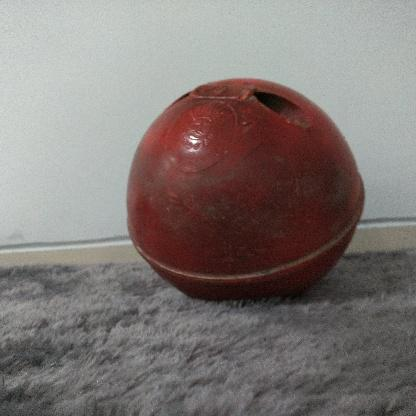red_buoy: (124, 74, 366, 304)
